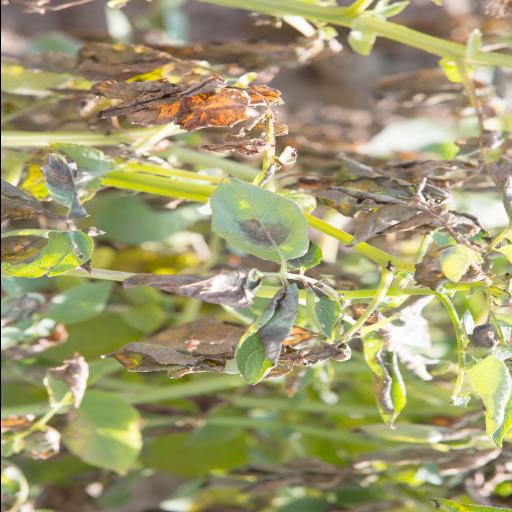Late Blight: (210, 176, 306, 262)
